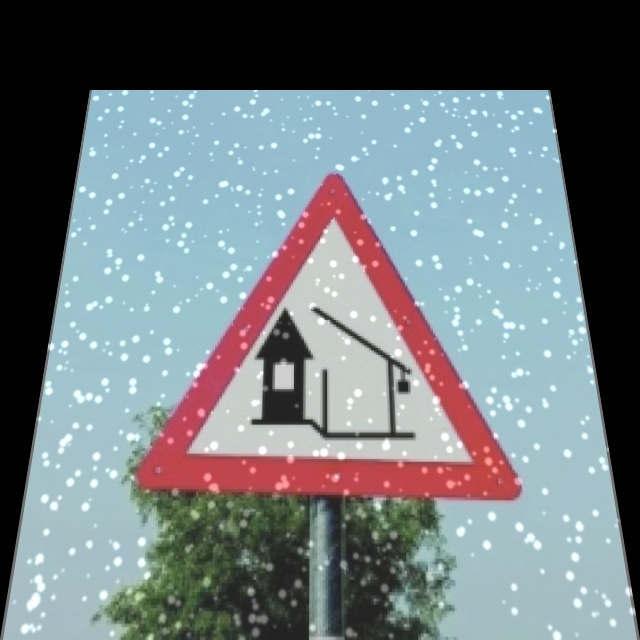Barrier_Ahead: (151, 174, 511, 506)
